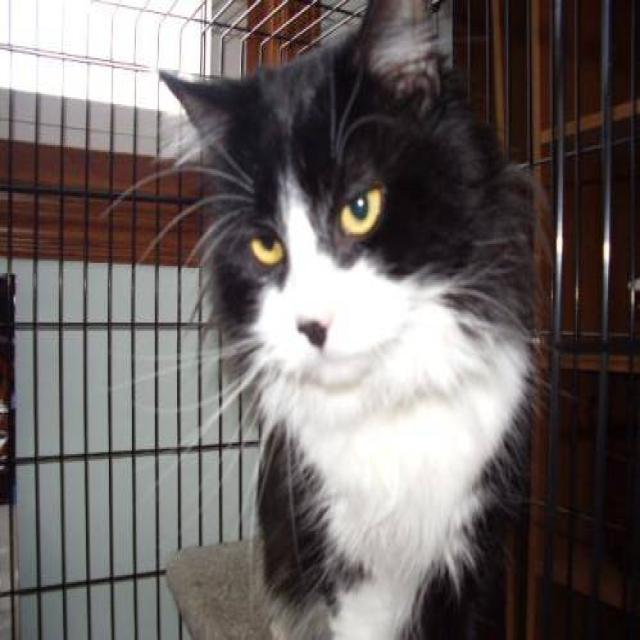cat: (100, 0, 554, 638)
